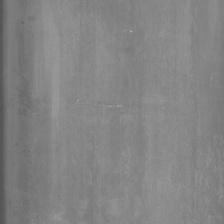crease: (71, 94, 133, 123)
